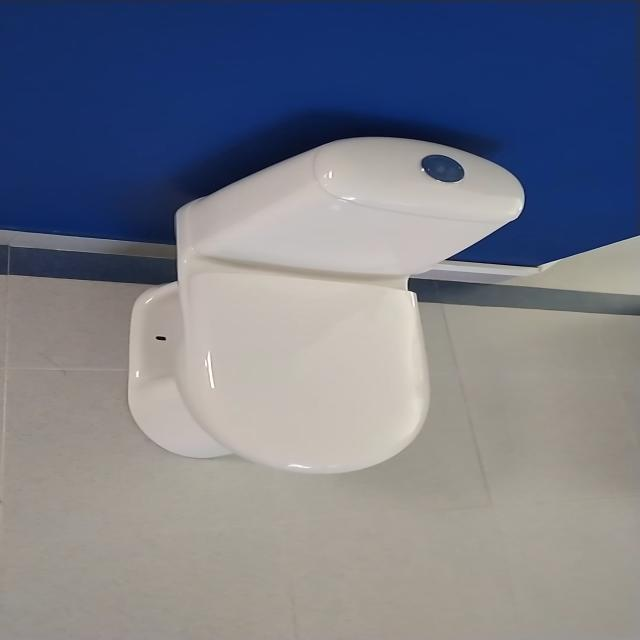toilet: (126, 135, 525, 475)
